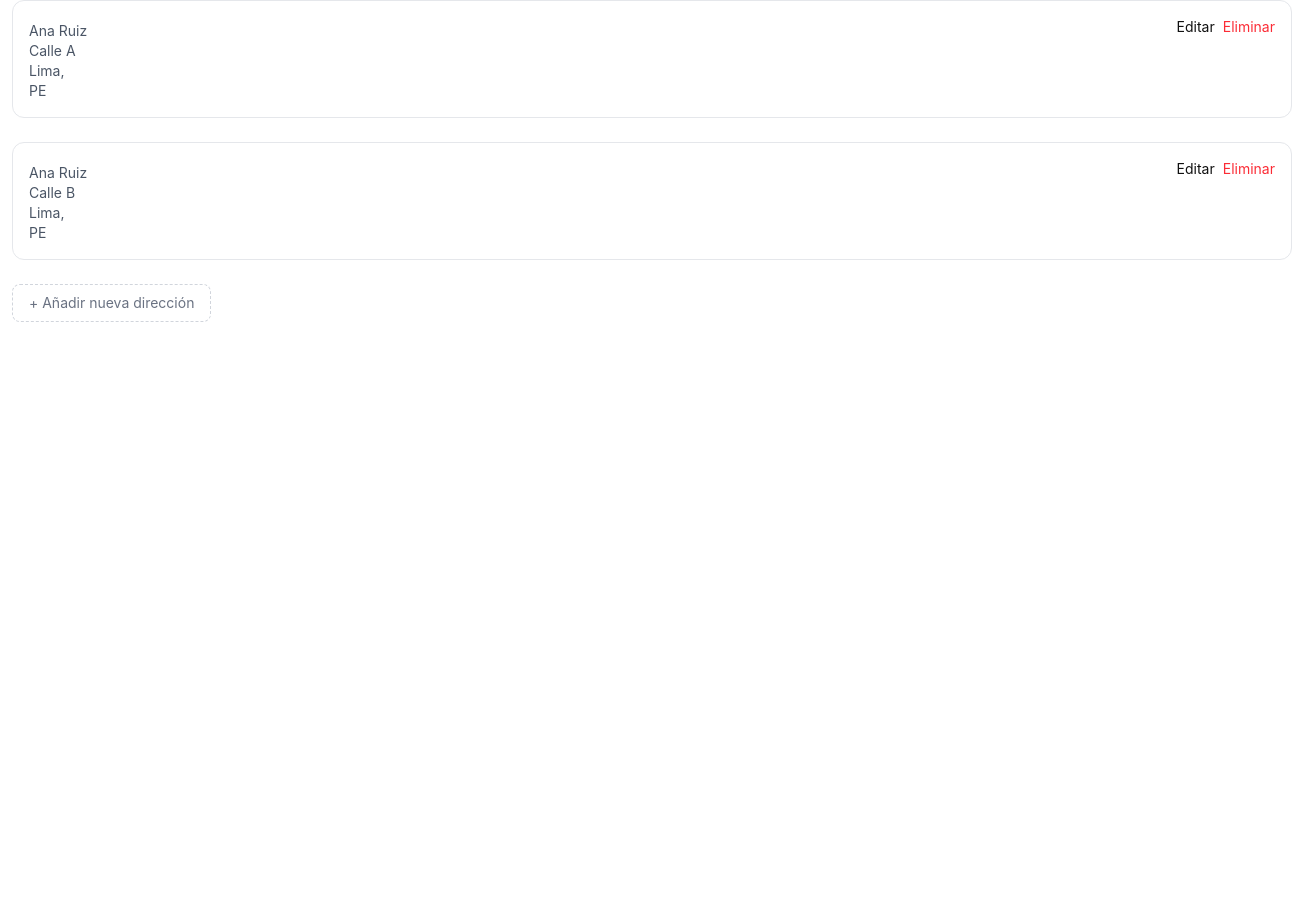
Test: AddressManager › borrar la dirección en edición cierra el formulario
The width and height of the screenshot is (1292, 900).
Expected: the text "Calle A" is shown, [29,42,76,59]
What coordinates should you click on to do the following:
click the 1st button "Editar"
I would click on:
 (1196, 27)
Its box is [1177,17,1215,37].
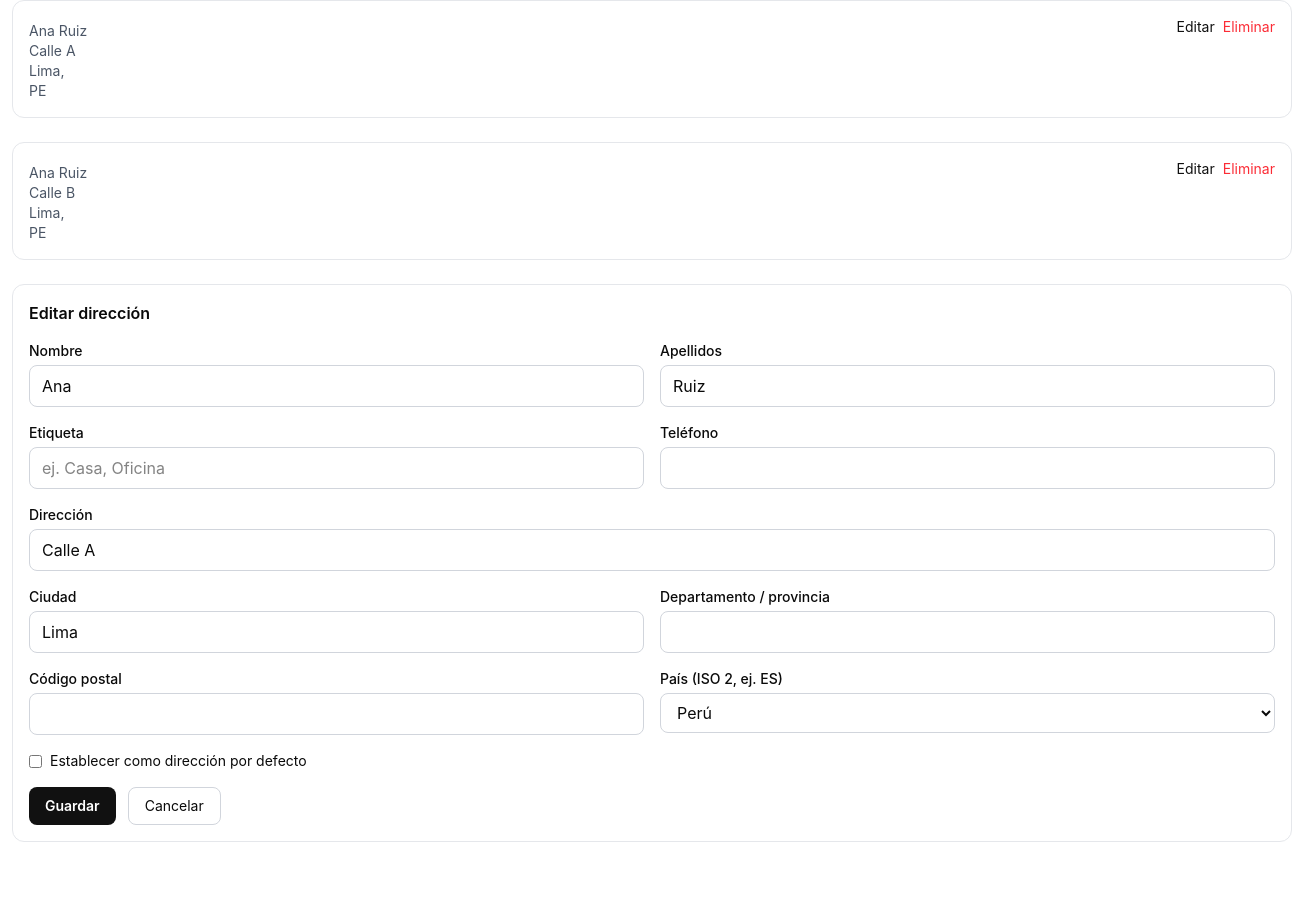
Expected: the button "Guardar" is shown, [29,787,116,825]
What coordinates should you click on to do the following:
click the 1st button "Eliminar"
I would click on:
 (1249, 27)
Its box is [1223,17,1275,37].
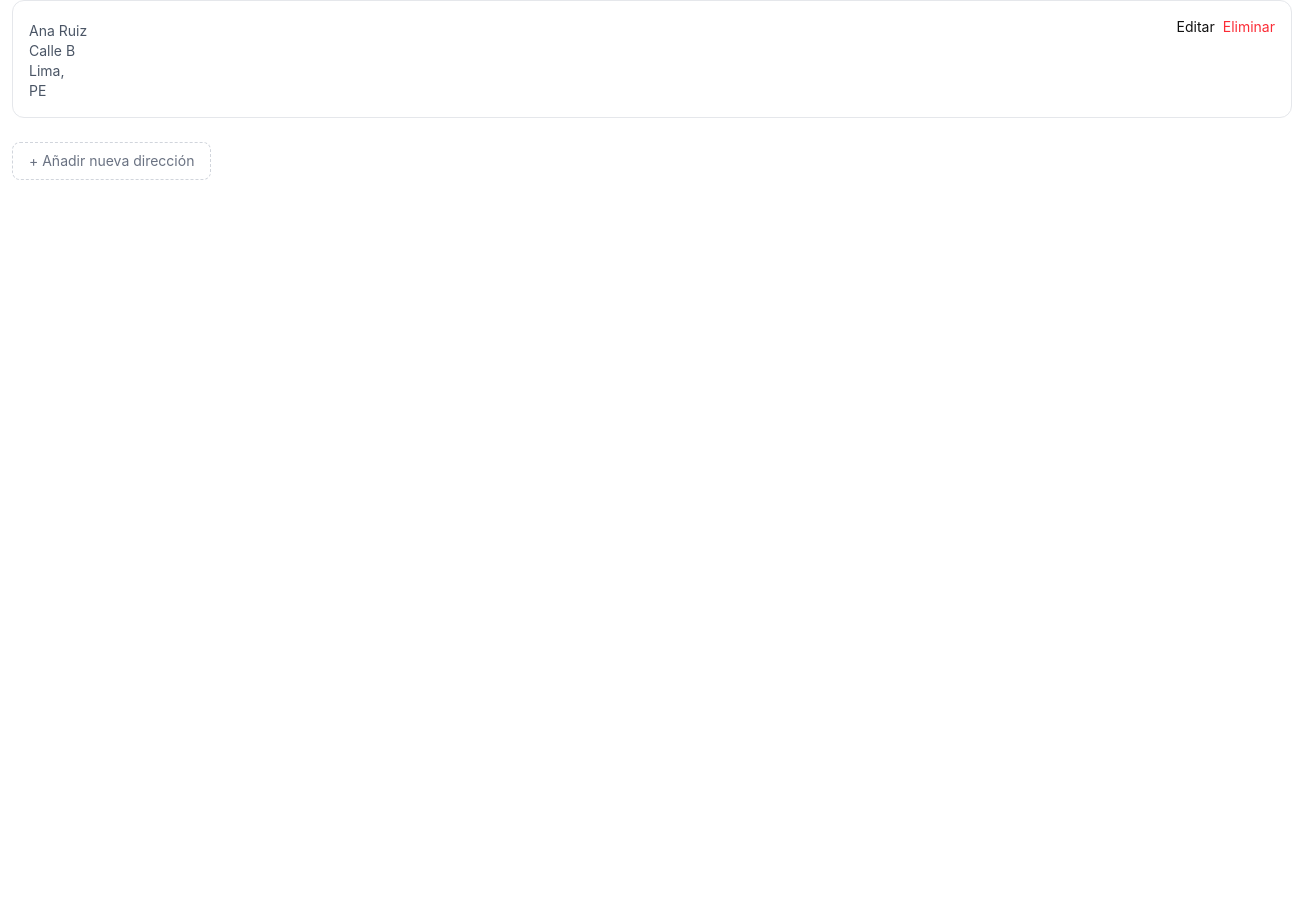
Expected: the button "Guardar" is gone
